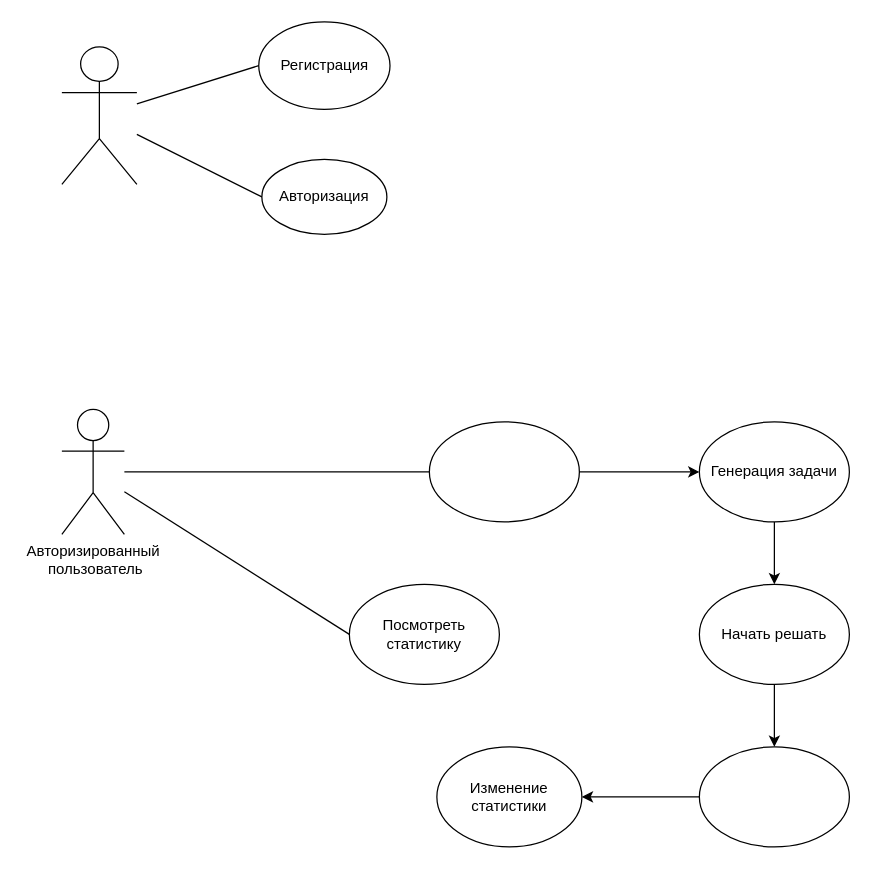
Image size: 871x869. Some labels were removed from this diagram. The shapes that lost their labels are listed below. From the top down, each one's centre as x and y in pixels, then its label:
At (99,115): "Не авторизированный пользователь".
At (503,471): "Выбрать тип задачи".
At (773,796): "Проверка решения".
